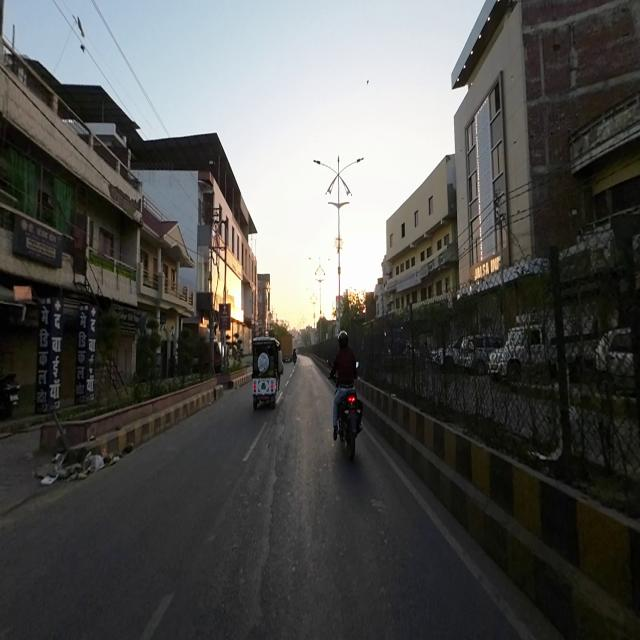Garbage: (44, 453, 84, 488), (80, 448, 119, 476)
